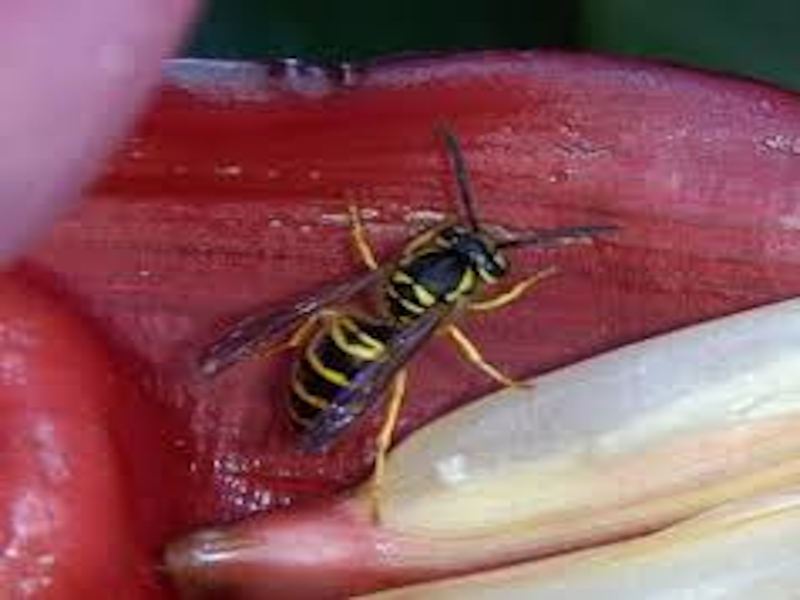chax: (199, 117, 618, 533)
